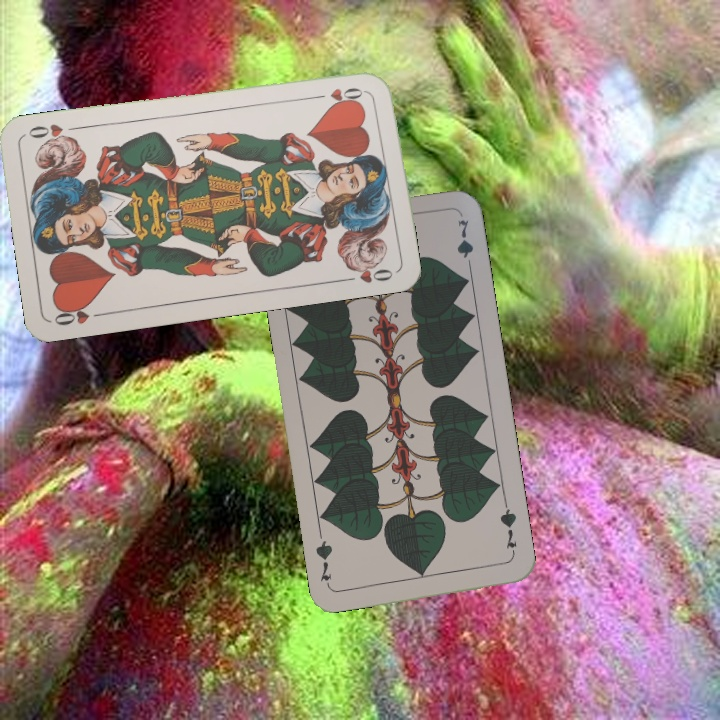G7: (496, 500, 520, 559)
HO: (50, 300, 108, 329), (310, 83, 370, 105)
